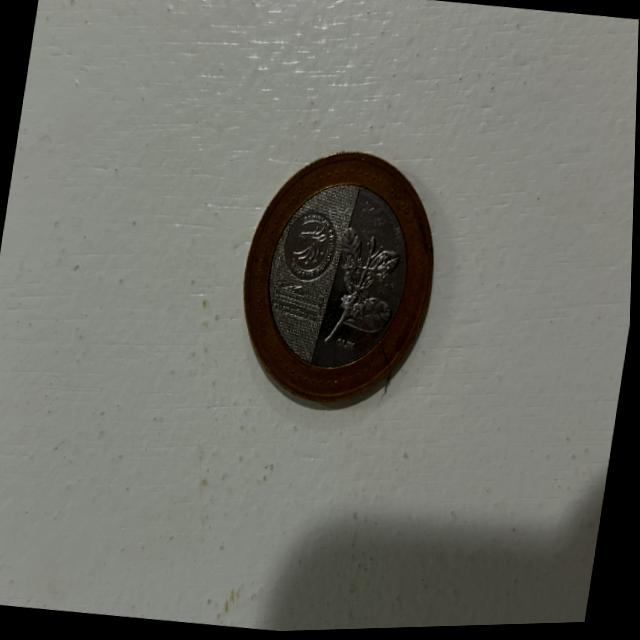20_New_Back: (313, 208, 412, 365)
